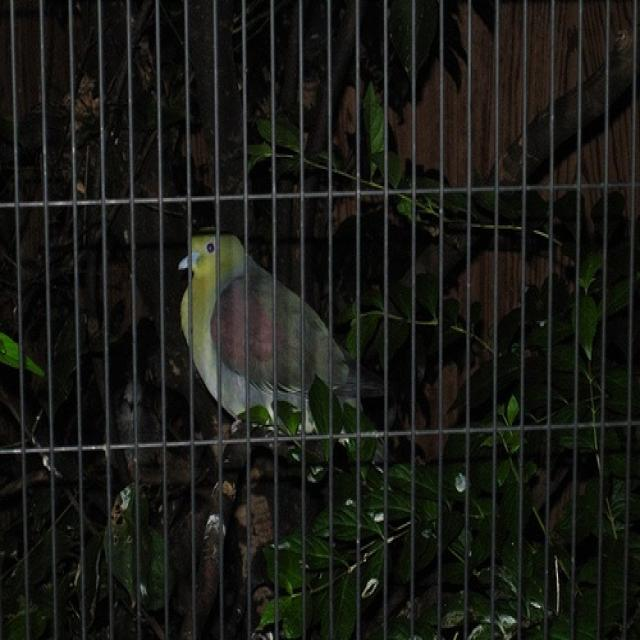bird: (182, 234, 361, 450)
